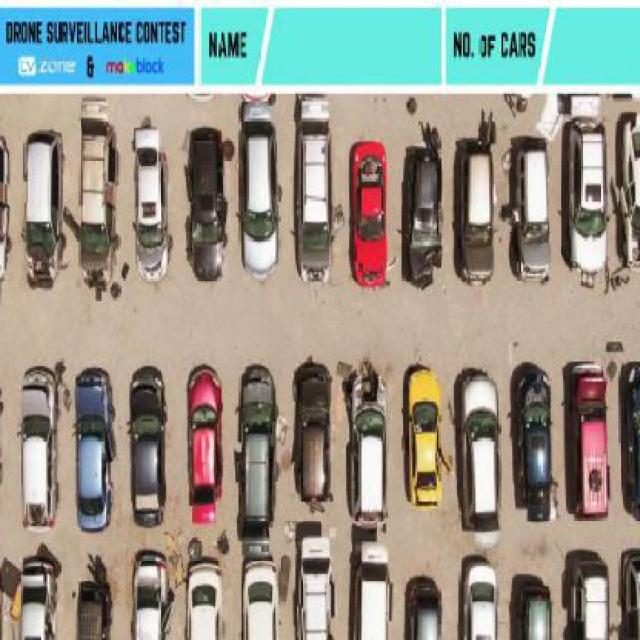car: (455, 368, 504, 544), (69, 363, 115, 533), (13, 360, 58, 532), (564, 358, 612, 518), (512, 360, 558, 520), (290, 359, 338, 512), (562, 115, 606, 277), (241, 102, 281, 280), (344, 139, 391, 290), (239, 361, 279, 538), (129, 125, 173, 284), (297, 100, 335, 283), (346, 365, 389, 525), (185, 120, 228, 280), (126, 363, 168, 525), (74, 117, 112, 286), (19, 130, 60, 286), (404, 139, 446, 290), (512, 138, 556, 282), (404, 364, 445, 513), (185, 364, 226, 511), (458, 140, 499, 285), (297, 518, 335, 640), (349, 531, 391, 639), (19, 540, 63, 640), (563, 546, 609, 640), (130, 547, 172, 640), (618, 109, 640, 274), (186, 552, 227, 639), (241, 550, 281, 638), (462, 554, 501, 639), (620, 359, 640, 515), (514, 570, 556, 638), (403, 573, 446, 639), (72, 579, 112, 640), (619, 548, 640, 640), (0, 135, 12, 287), (0, 384, 7, 532), (0, 559, 8, 639)
